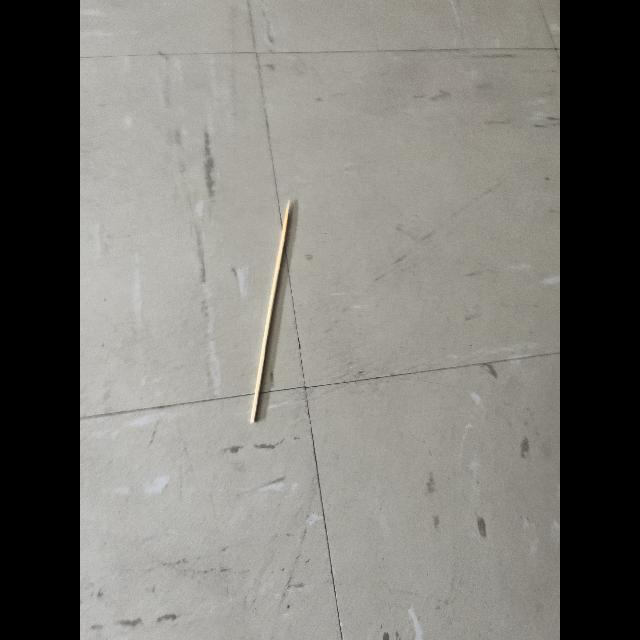stick: (242, 193, 300, 431)
